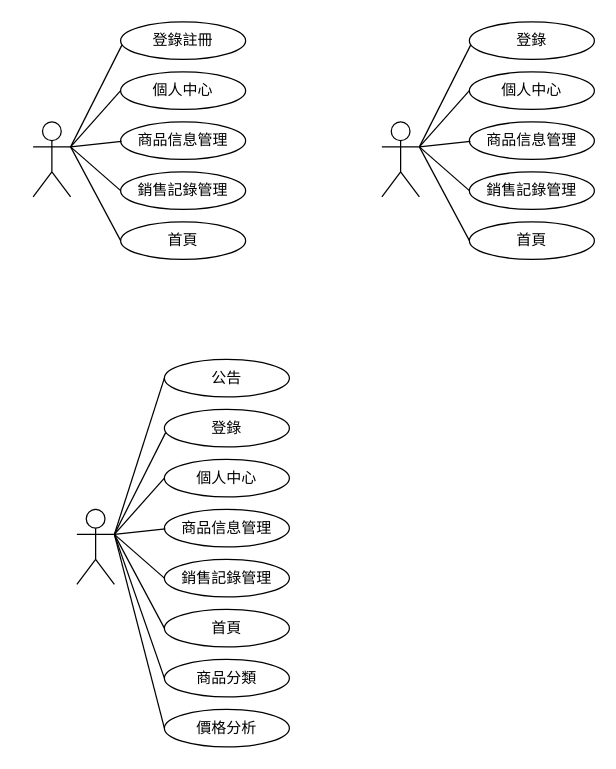
Image size: 616x769. Some labels were removed from this diagram. The centre of each missing label's shape, as x and y in pixels:
"採購人員" goes at pixel 400 159.
"管理人" goes at pixel 95 546.
"銷售人員" goes at pixel 51 159.
